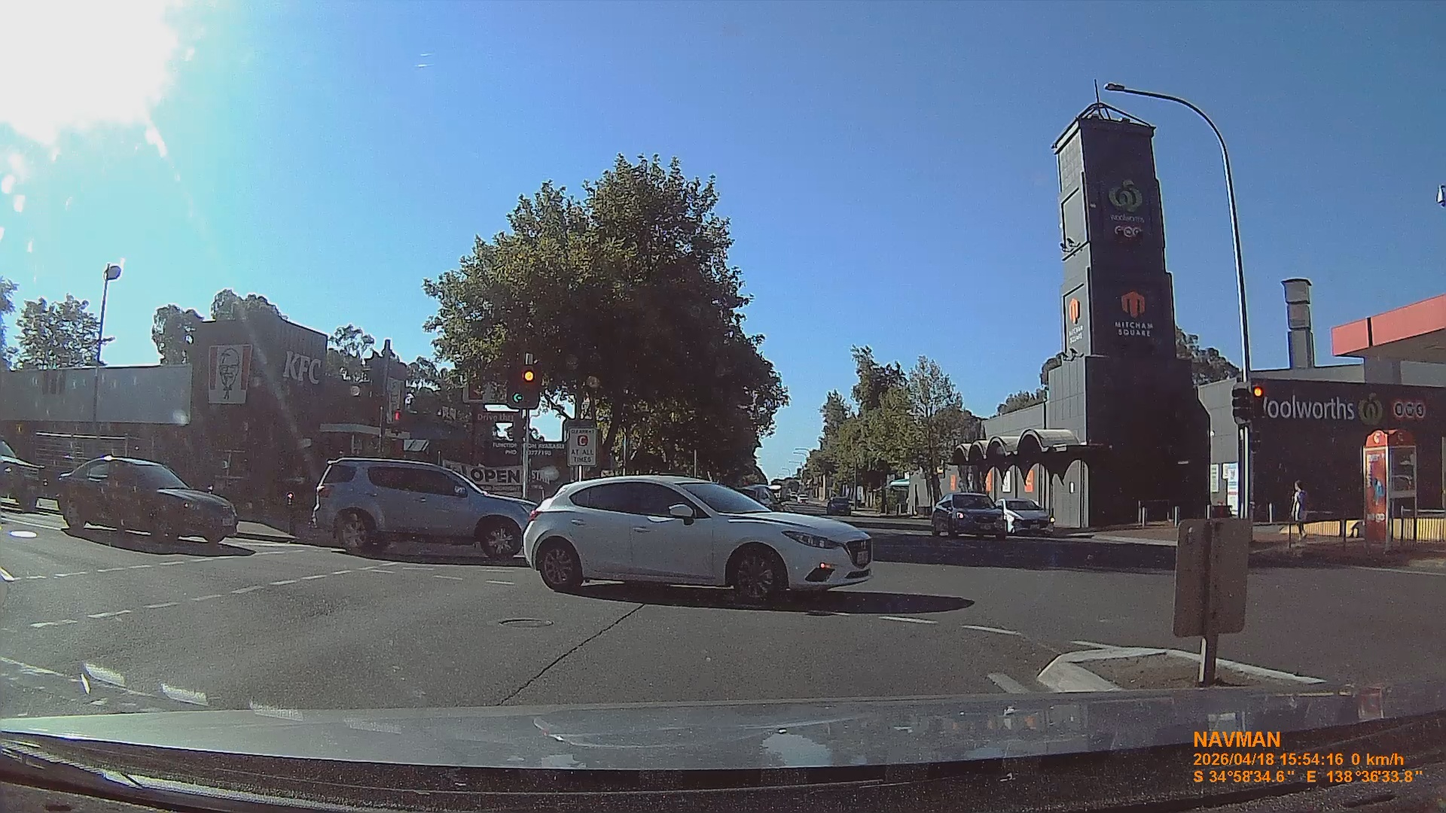fences: (1281, 520, 1363, 541)
